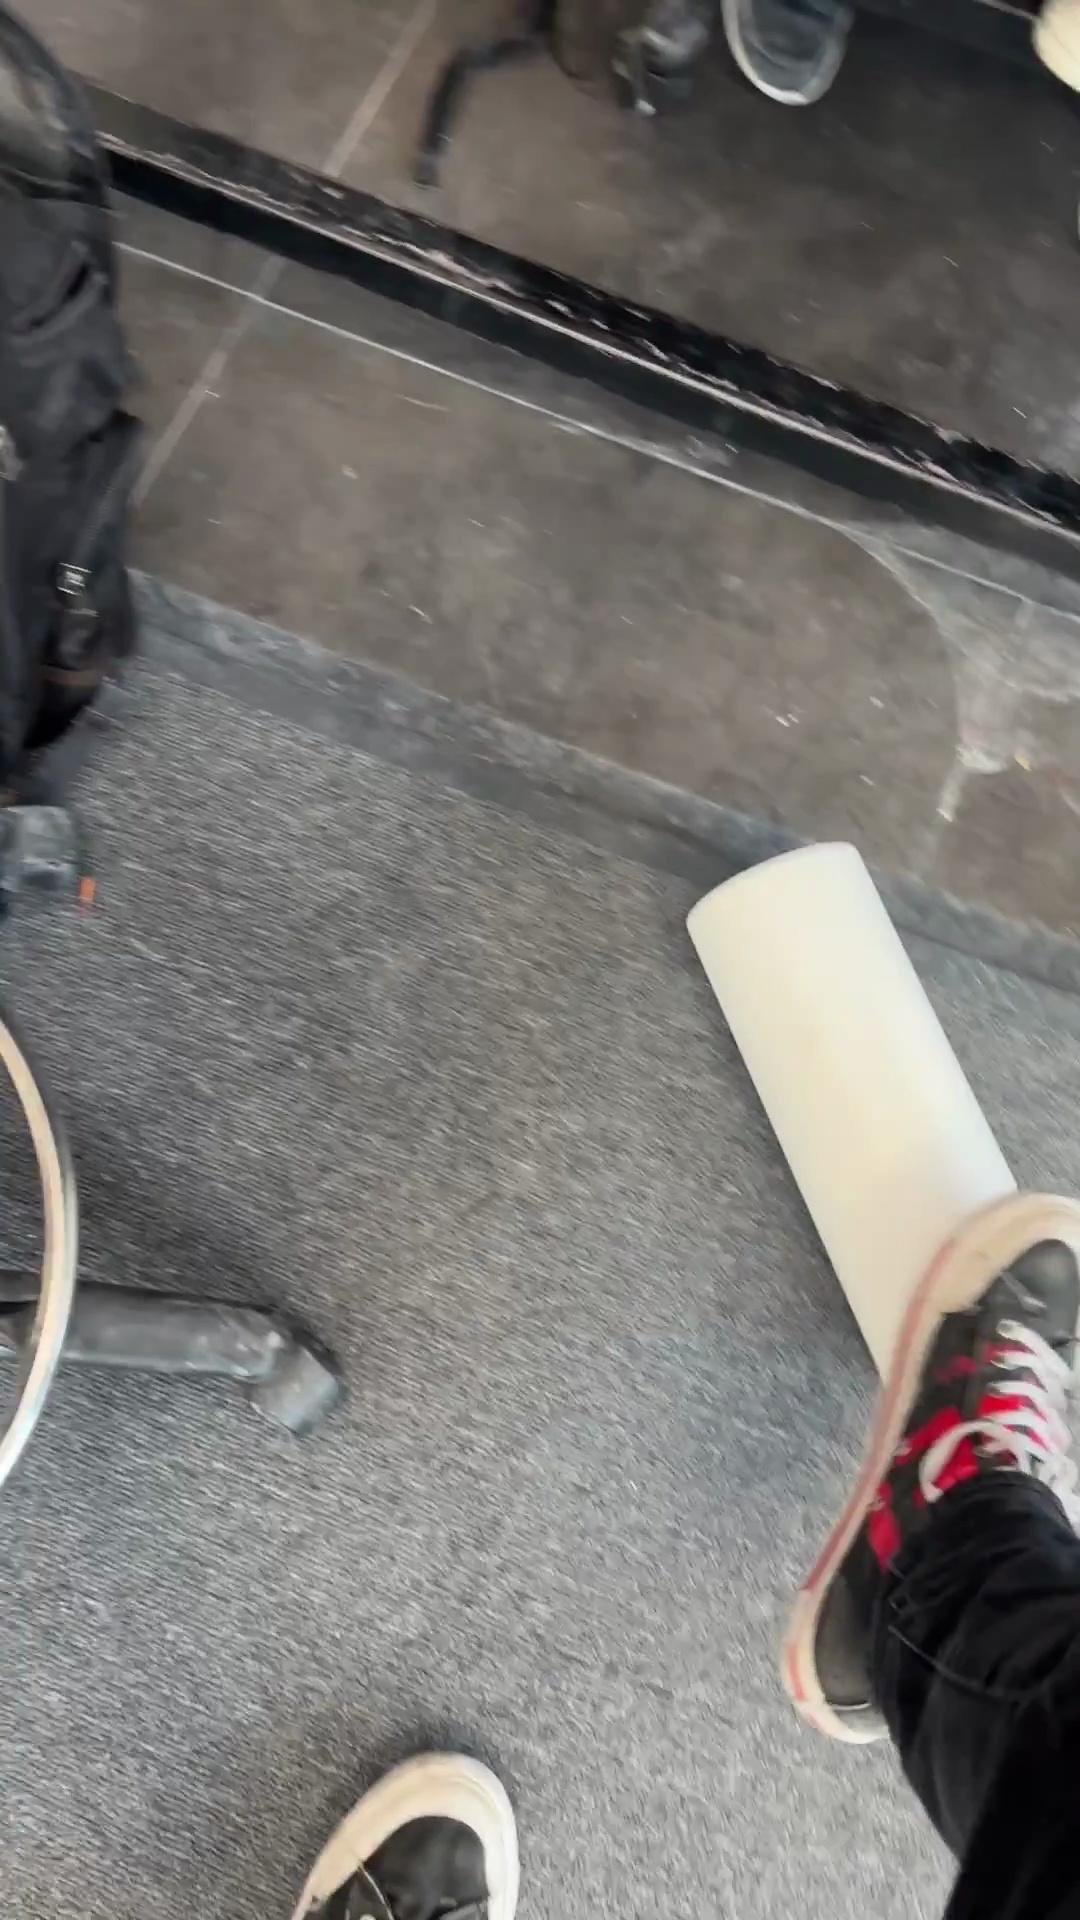CORAL: (684, 837, 1023, 1377)
